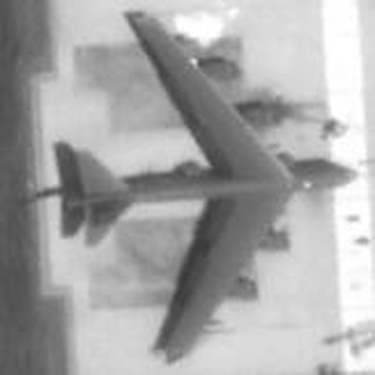airplane: (39, 5, 367, 370)
